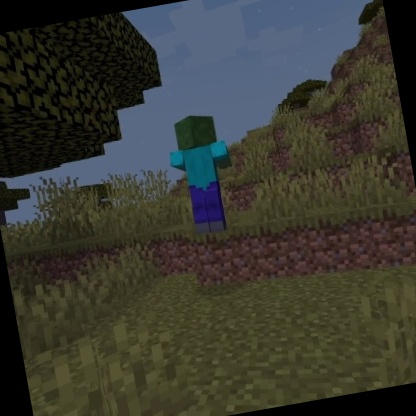zombie: (159, 107, 247, 244)
